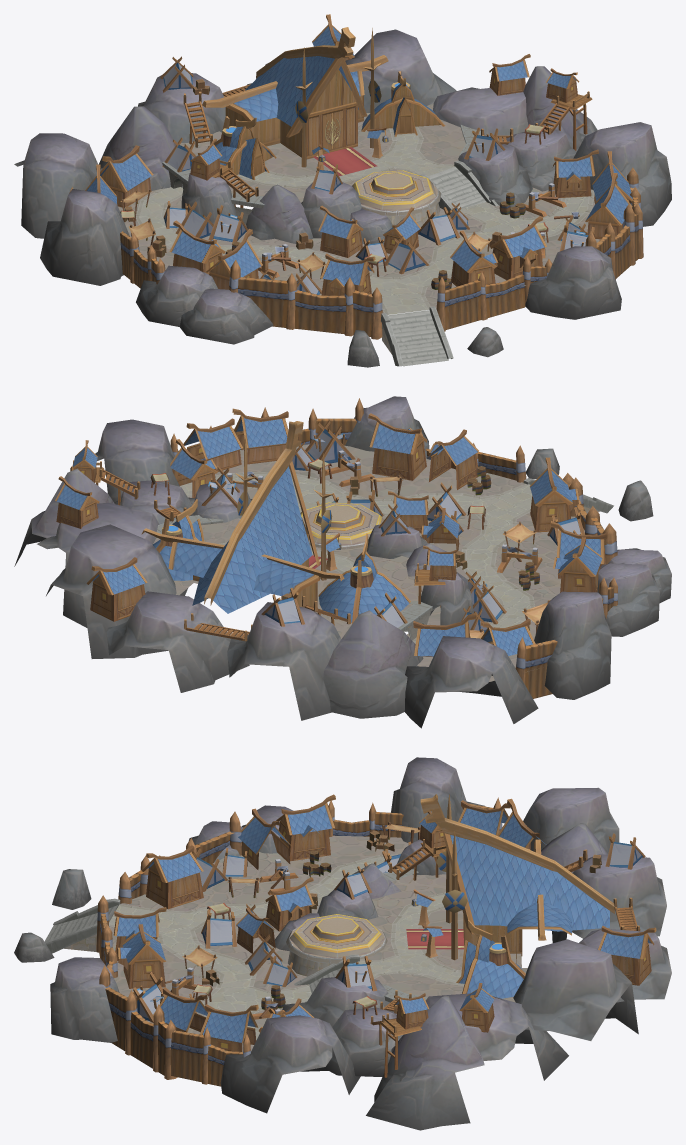
The model's file is CityNorth.fbx.
3 renders of one model, top to bottom at view 1: azimuth 30°, elevation 25°; view 2: azimuth 150°, elevation 25°; view 3: azimuth 270°, elevation 25°, orthographic. The views are drawn at different scales.
Visible parts, largest first — view 1: field2_playertown_BJ_lv1_07; view 2: field2_playertown_BJ_lv1_07; view 3: field2_playertown_BJ_lv1_07.
Part boxes in pixels (left/top/right/bottom): field2_playertown_BJ_lv1_07: left=14, top=14, right=671, bottom=367; field2_playertown_BJ_lv1_07: left=14, top=396, right=671, bottom=728; field2_playertown_BJ_lv1_07: left=14, top=757, right=671, bottom=1130.
Bounding box in the file's own units: 1072 × 342 × 1024.
